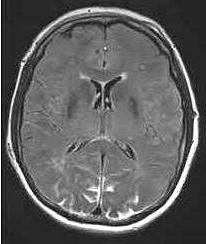Normal_Brain: (18, 1, 206, 244)
